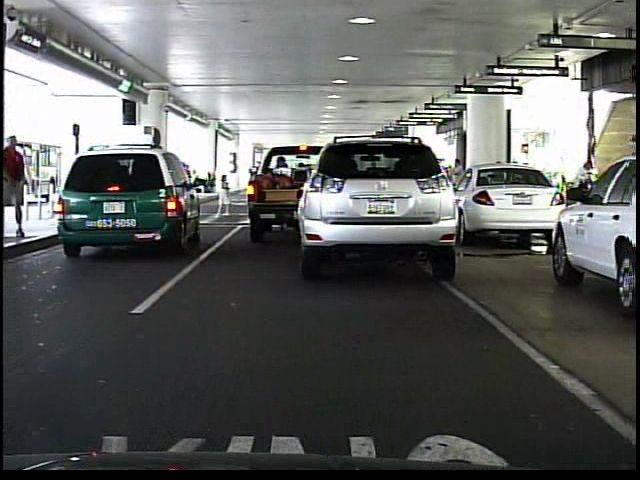person: (6, 133, 33, 243), (212, 169, 241, 223), (451, 156, 466, 180)
